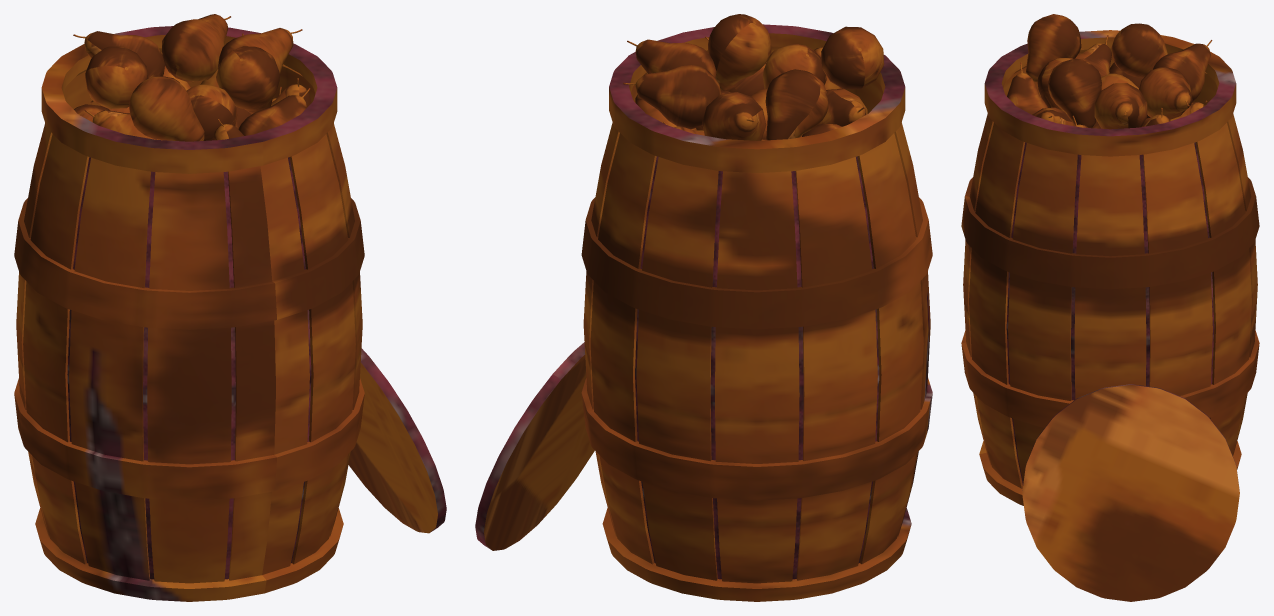
File: fruit barrel_4.fbx
3 views of the same model, side by side, from view 1: azimuth 30°, elevation 25°; view 2: azimuth 150°, elevation 25°; view 3: azimuth 270°, elevation 25° (orthographic). The views are drawn at different scales.
Visible parts, largest first — view 1: Circle.008, Circle.009, Plane.1114, Plane.1099, Plane.1112, Plane.1105, Plane.1102, Plane.1107, Plane.1104, Plane.1100, Plane.1101; view 2: Circle.008, Circle.009, Plane.1099, Plane.1105, Plane.1112, Plane.1114, Plane.1107, Plane.1104, Plane.1102, Plane.1101; view 3: Circle.008, Circle.009, Plane.1112, Plane.1114, Plane.1105, Plane.1099, Plane.1104, Plane.1107, Plane.1097, Plane.1101, Plane.1102, Plane.1100.
Boxes of the visible parts, bbox=[...] form: Circle.008: bbox=[14, 26, 364, 601]; Circle.009: bbox=[348, 348, 446, 533]; Plane.1114: bbox=[128, 76, 204, 141]; Plane.1099: bbox=[162, 14, 230, 82]; Plane.1112: bbox=[216, 46, 280, 113]; Plane.1105: bbox=[85, 46, 148, 108]; Plane.1102: bbox=[186, 84, 237, 140]; Plane.1107: bbox=[73, 31, 164, 78]; Plane.1104: bbox=[218, 28, 302, 73]; Plane.1100: bbox=[238, 88, 310, 135]; Plane.1101: bbox=[84, 109, 162, 140]; Circle.008: bbox=[581, 24, 932, 601]; Circle.009: bbox=[475, 342, 594, 550]; Plane.1099: bbox=[623, 65, 721, 129]; Plane.1105: bbox=[765, 69, 828, 140]; Plane.1112: bbox=[708, 14, 771, 90]; Plane.1114: bbox=[821, 26, 884, 89]; Plane.1107: bbox=[702, 91, 766, 140]; Plane.1104: bbox=[627, 39, 716, 78]; Plane.1102: bbox=[762, 44, 826, 88]; Plane.1101: bbox=[817, 88, 867, 126]; Circle.008: bbox=[961, 30, 1259, 505]; Circle.009: bbox=[1022, 384, 1239, 601]; Plane.1112: bbox=[1047, 58, 1101, 128]; Plane.1114: bbox=[1026, 14, 1081, 82]; Plane.1105: bbox=[1111, 23, 1167, 77]; Plane.1099: bbox=[1139, 66, 1192, 119]; Plane.1104: bbox=[1094, 83, 1147, 129]; Plane.1107: bbox=[1153, 40, 1212, 102]; Plane.1097: bbox=[1007, 62, 1047, 114]; Plane.1101: bbox=[1075, 35, 1111, 77]; Plane.1102: bbox=[1037, 58, 1072, 111]; Plane.1100: bbox=[1032, 107, 1074, 126].
Size of the model in its own units: 45.26 by 61.35 by 35.65.
